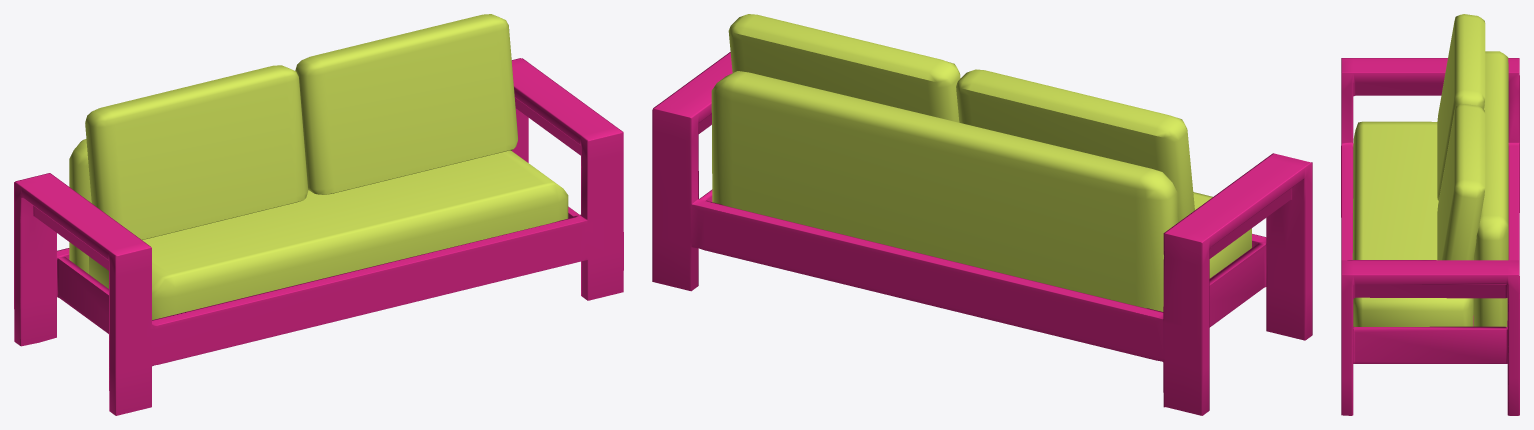
Rendered from sofa.fbx.
3 renders of one model, left to right at view 1: azimuth 30°, elevation 25°; view 2: azimuth 150°, elevation 25°; view 3: azimuth 270°, elevation 25°, orthographic. The views are drawn at different scales.
Parts seen in each view (by area): view 1: sofa; view 2: sofa; view 3: sofa.
Boxes of the visible parts, x1,y1,x2,y2 form: sofa: (14, 14, 623, 415); sofa: (652, 14, 1312, 415); sofa: (1341, 14, 1519, 415).
Bounding box in the file's own units: 250 × 112 × 86.64.
